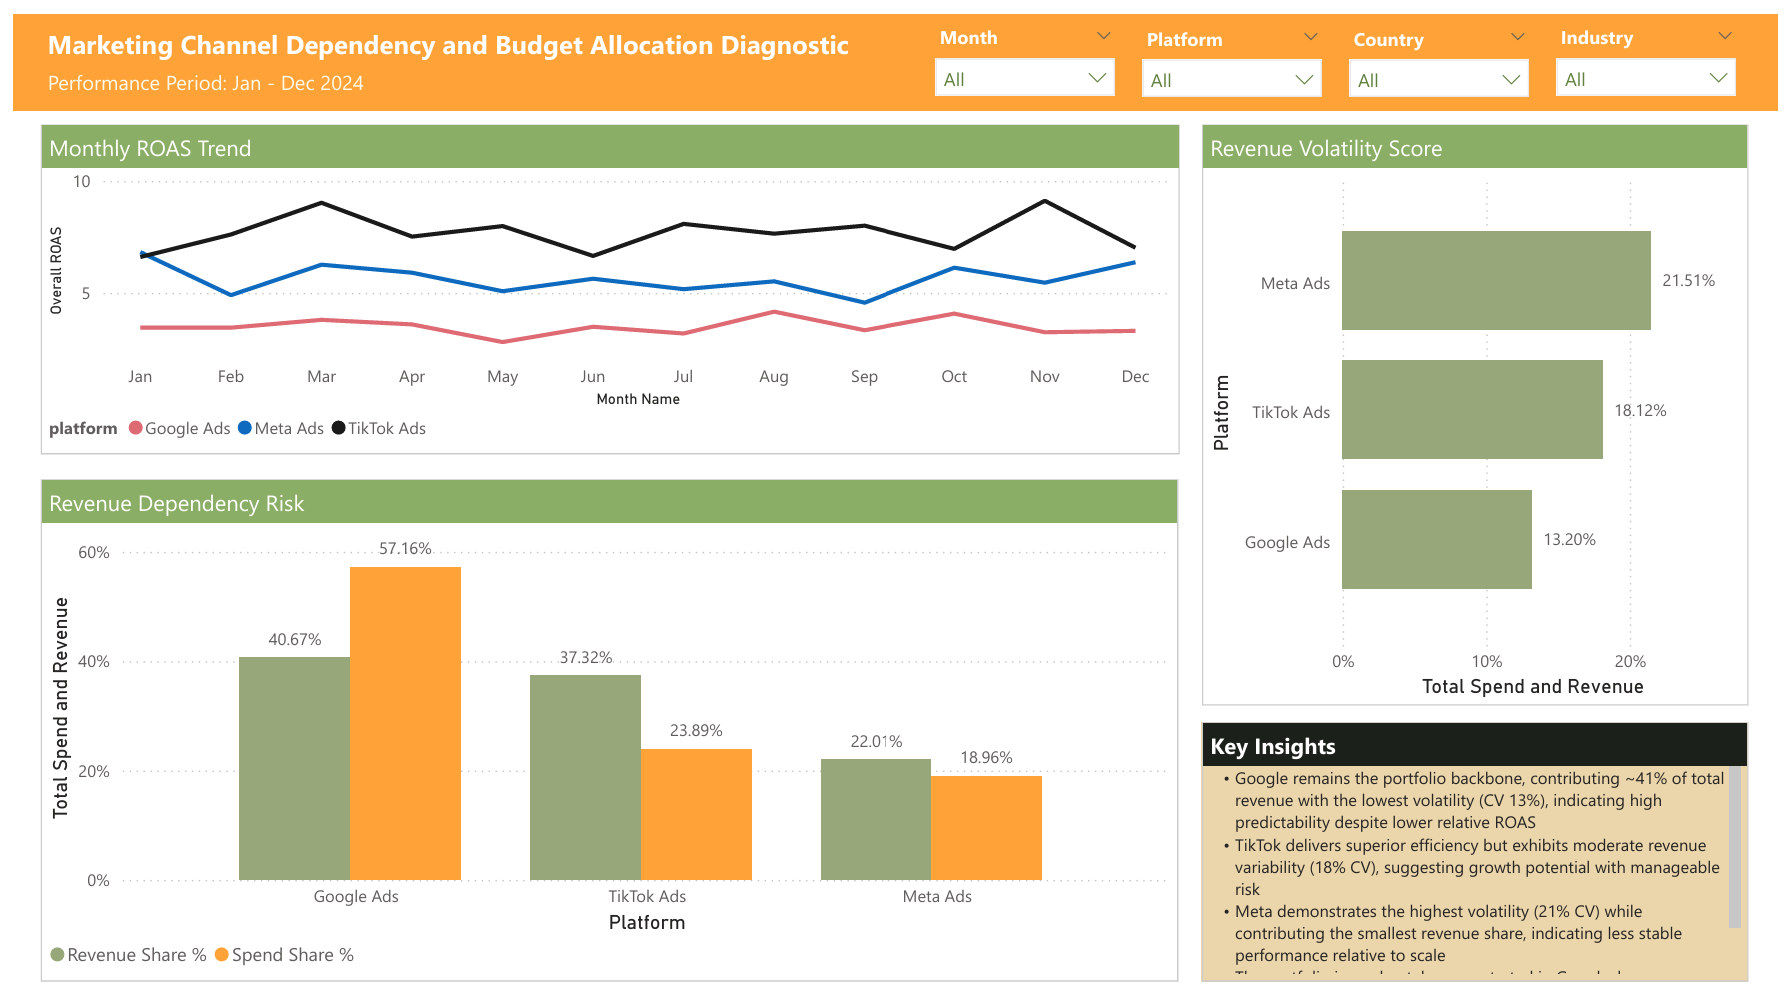

What the dashboard file says about the page in this screenshot:
{"tool":"powerbi","page":{"name":"Channel Stability and Dependency Risk","canvas":[1280,720],"ordinal":1},"visuals":[{"type":"textbox","box":[0,0,1279.4,70],"z":0},{"type":"textbox","title":"Marketing Channel Dependency and Budget Allocation Diagnostic","box":[20.4,8.7,620.1,53.9],"z":1000},{"type":"textbox","title":"Key Insights","box":[861.6,513.3,396.7,187.8],"z":2000},{"type":"slicer","fields":{"Values":["raw.industry"]},"box":[1109.1,2.9,150,65.5],"z":3000},{"type":"slicer","fields":{"Values":["raw.country"]},"box":[959.2,4.4,149.9,65.5],"z":4000},{"type":"slicer","fields":{"Values":["raw.platform"]},"box":[809.3,4.4,149.9,65.5],"z":5000},{"type":"slicer","fields":{"Values":["Date Table.Month Name"]},"box":[659.4,2.9,149.9,65.5],"z":6000},{"type":"lineChart","title":"Monthly ROAS Trend","fields":{"Category":["Date Table.Month Name"],"Series":["raw.platform"],"Y":["raw.Overall ROAS"]},"box":[19.6,80,826.8,238.6],"z":7000},{"type":"clusteredColumnChart","title":"Revenue Dependency Risk","fields":{"Category":["raw.platform"],"Y":["raw.Revenue Share %","raw.Spend Share %"]},"box":[19.6,336.6,825.2,364.4],"z":8000},{"type":"clusteredBarChart","title":"Revenue Volatility Score","fields":{"Category":["raw.platform"],"Y":["raw.Revenue CV"]},"box":[861.6,80.3,396.7,420.9],"z":9000}]}

Visuals, with their boxes in screenshot pixels (x1, y1, x2, y2), scaled from the page's 1280x720 canvas onto the 1791x996 screenshot:
textbox: bbox(0, 0, 1790, 97)
"Marketing Channel Dependency and Budget Allocation Diagnostic" textbox: bbox(29, 12, 896, 87)
"Key Insights" textbox: bbox(1206, 710, 1761, 970)
slicer - raw.industry: bbox(1552, 4, 1762, 95)
slicer - raw.country: bbox(1342, 6, 1552, 97)
slicer - raw.platform: bbox(1132, 6, 1342, 97)
slicer - Date Table.Month Name: bbox(923, 4, 1132, 95)
"Monthly ROAS Trend" lineChart: bbox(27, 111, 1184, 441)
"Revenue Dependency Risk" clusteredColumnChart: bbox(27, 466, 1182, 970)
"Revenue Volatility Score" clusteredBarChart: bbox(1206, 111, 1761, 693)
